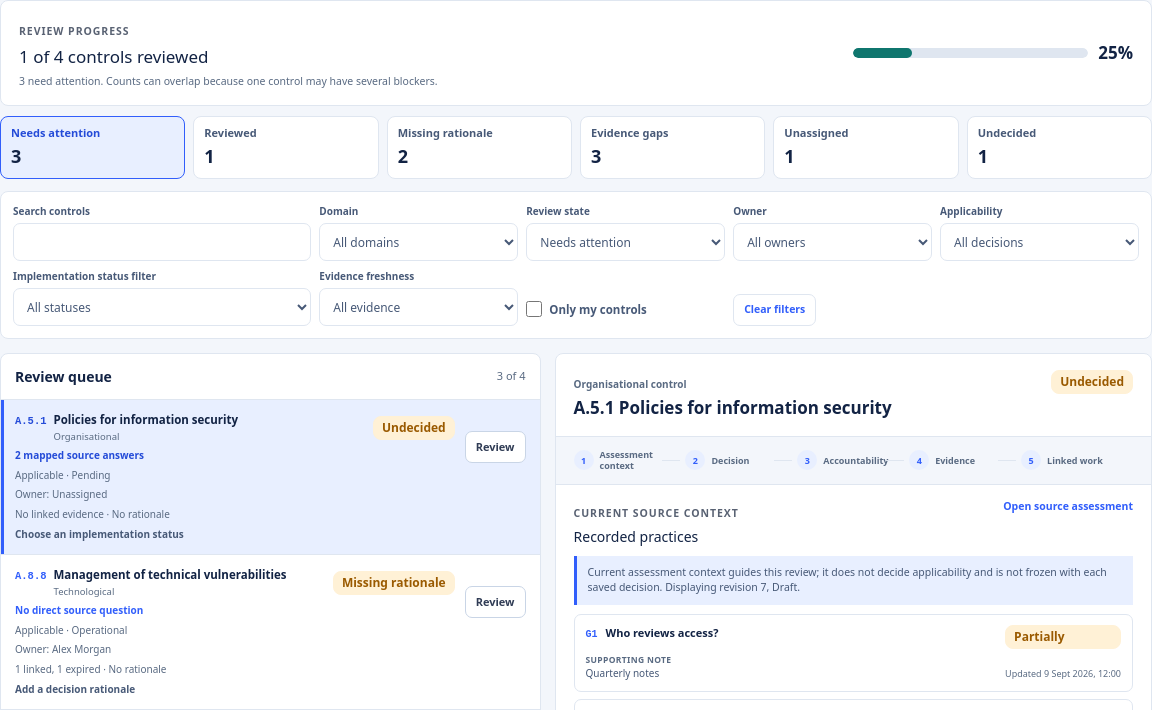
Test: SoaReviewWorkspace › shows empty detail and no save commands when filters have no result
The width and height of the screenshot is (1152, 710).
Type "no matching control" into the search field labelled "Search controls" at [162, 242], box left=13, top=223, right=311, bottom=261
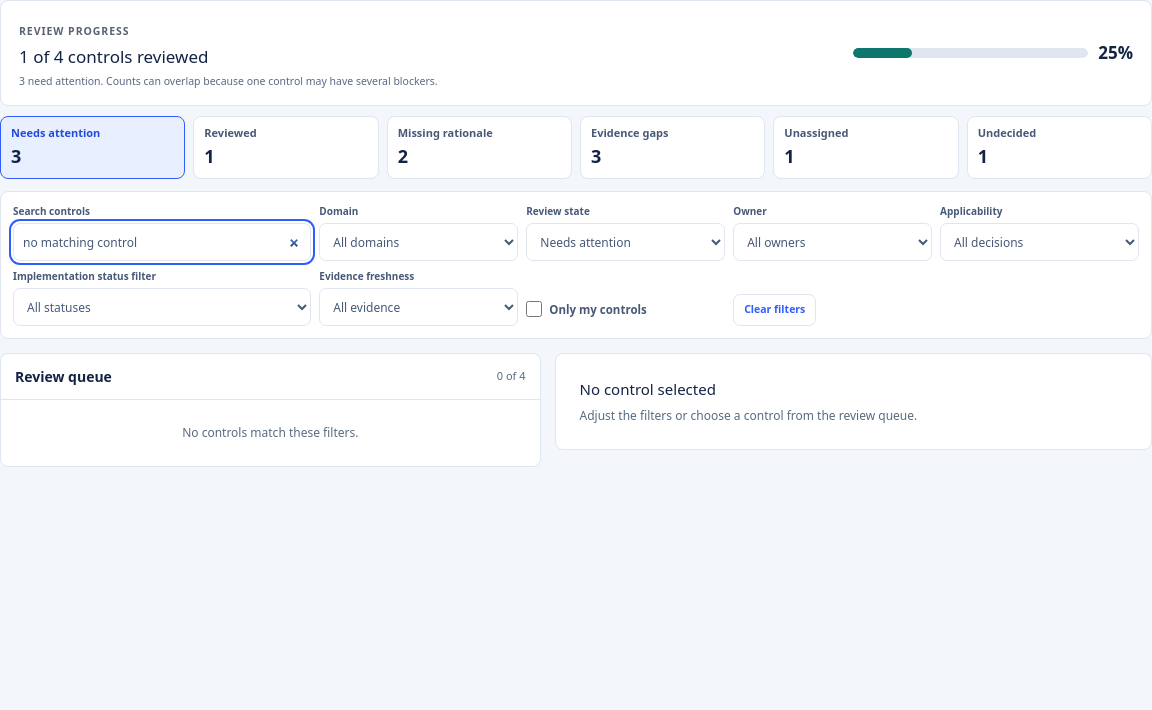
Result: the text "No controls match these filters." is shown at left=182, top=424, right=358, bottom=441
Result: the heading "No control selected" is shown at left=580, top=379, right=716, bottom=399
Result: no forms are shown
